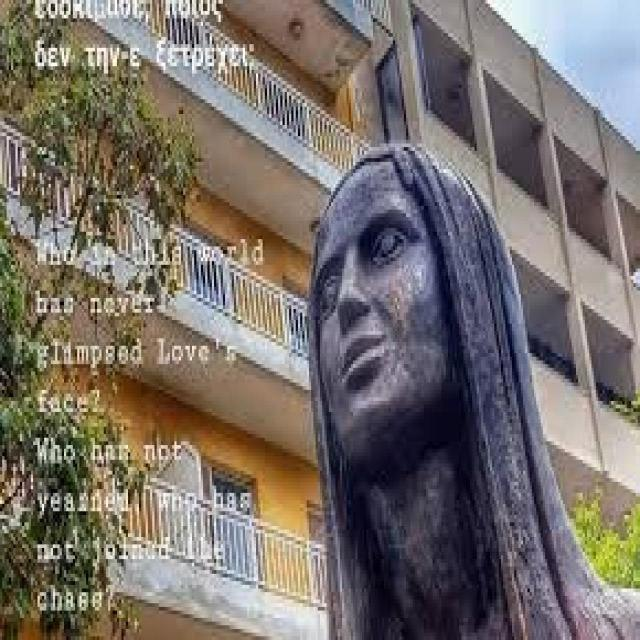Aretousa: (305, 141, 640, 640)
